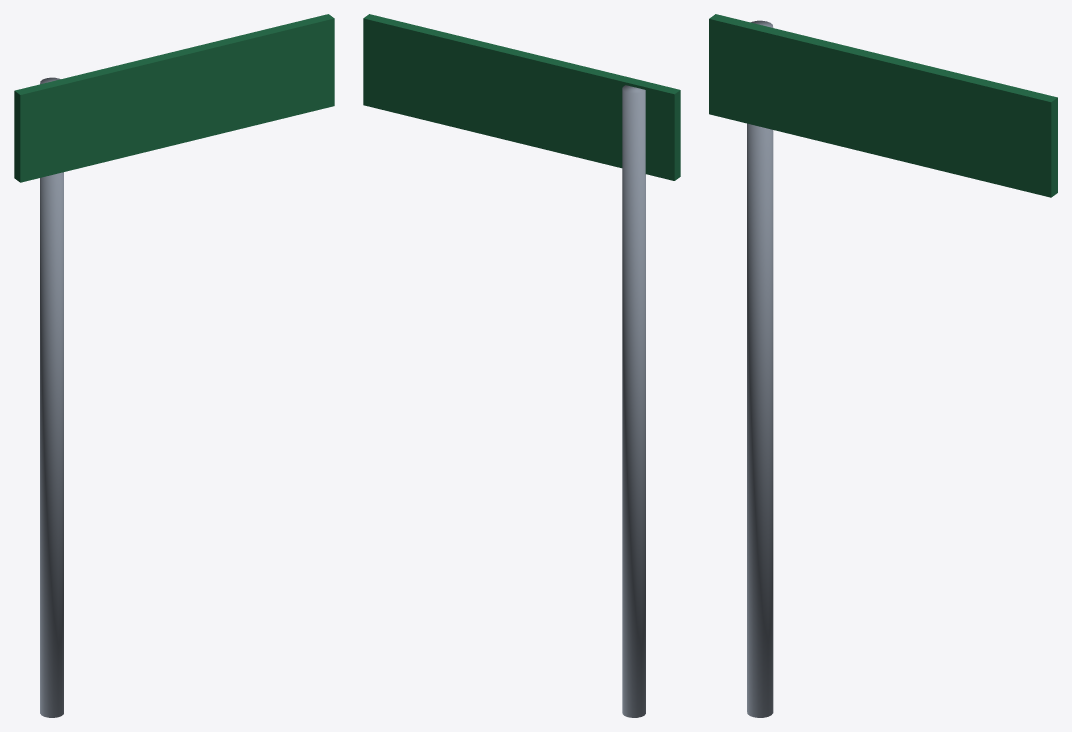
Rendered from letrero_calle.glb.
The picture shows the model from 3 angles, left to right: view 1: azimuth 30°, elevation 25°; view 2: azimuth 150°, elevation 25°; view 3: azimuth 330°, elevation 25°; orthographic projection. The views are drawn at different scales.
Visible parts, largest first — view 1: texto, Cylinder; view 2: texto, Cylinder; view 3: texto, Cylinder.
Part boxes in pixels (x1,y1,x2,y2): texto: (14, 14, 334, 182); Cylinder: (40, 77, 63, 717); texto: (363, 14, 680, 180); Cylinder: (622, 85, 645, 717); texto: (709, 14, 1057, 197); Cylinder: (747, 20, 773, 717).
Size of the model in its own units: 1.2 by 2.31 by 0.09.
